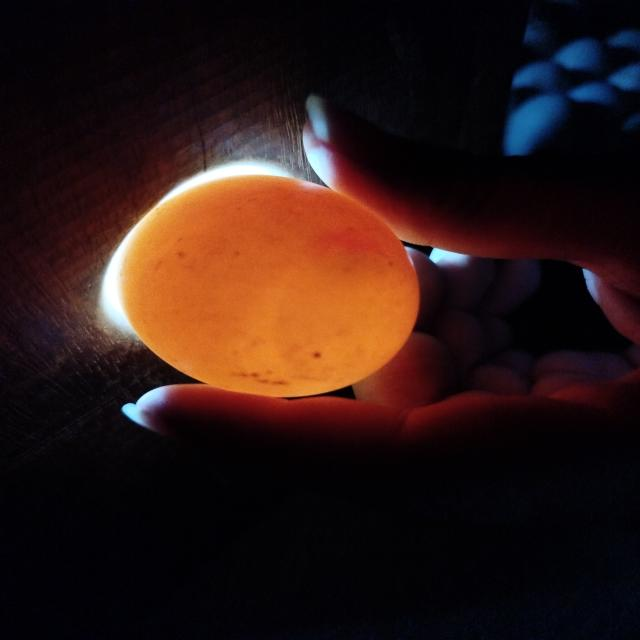Camara de Ar: (101, 161, 420, 397)
